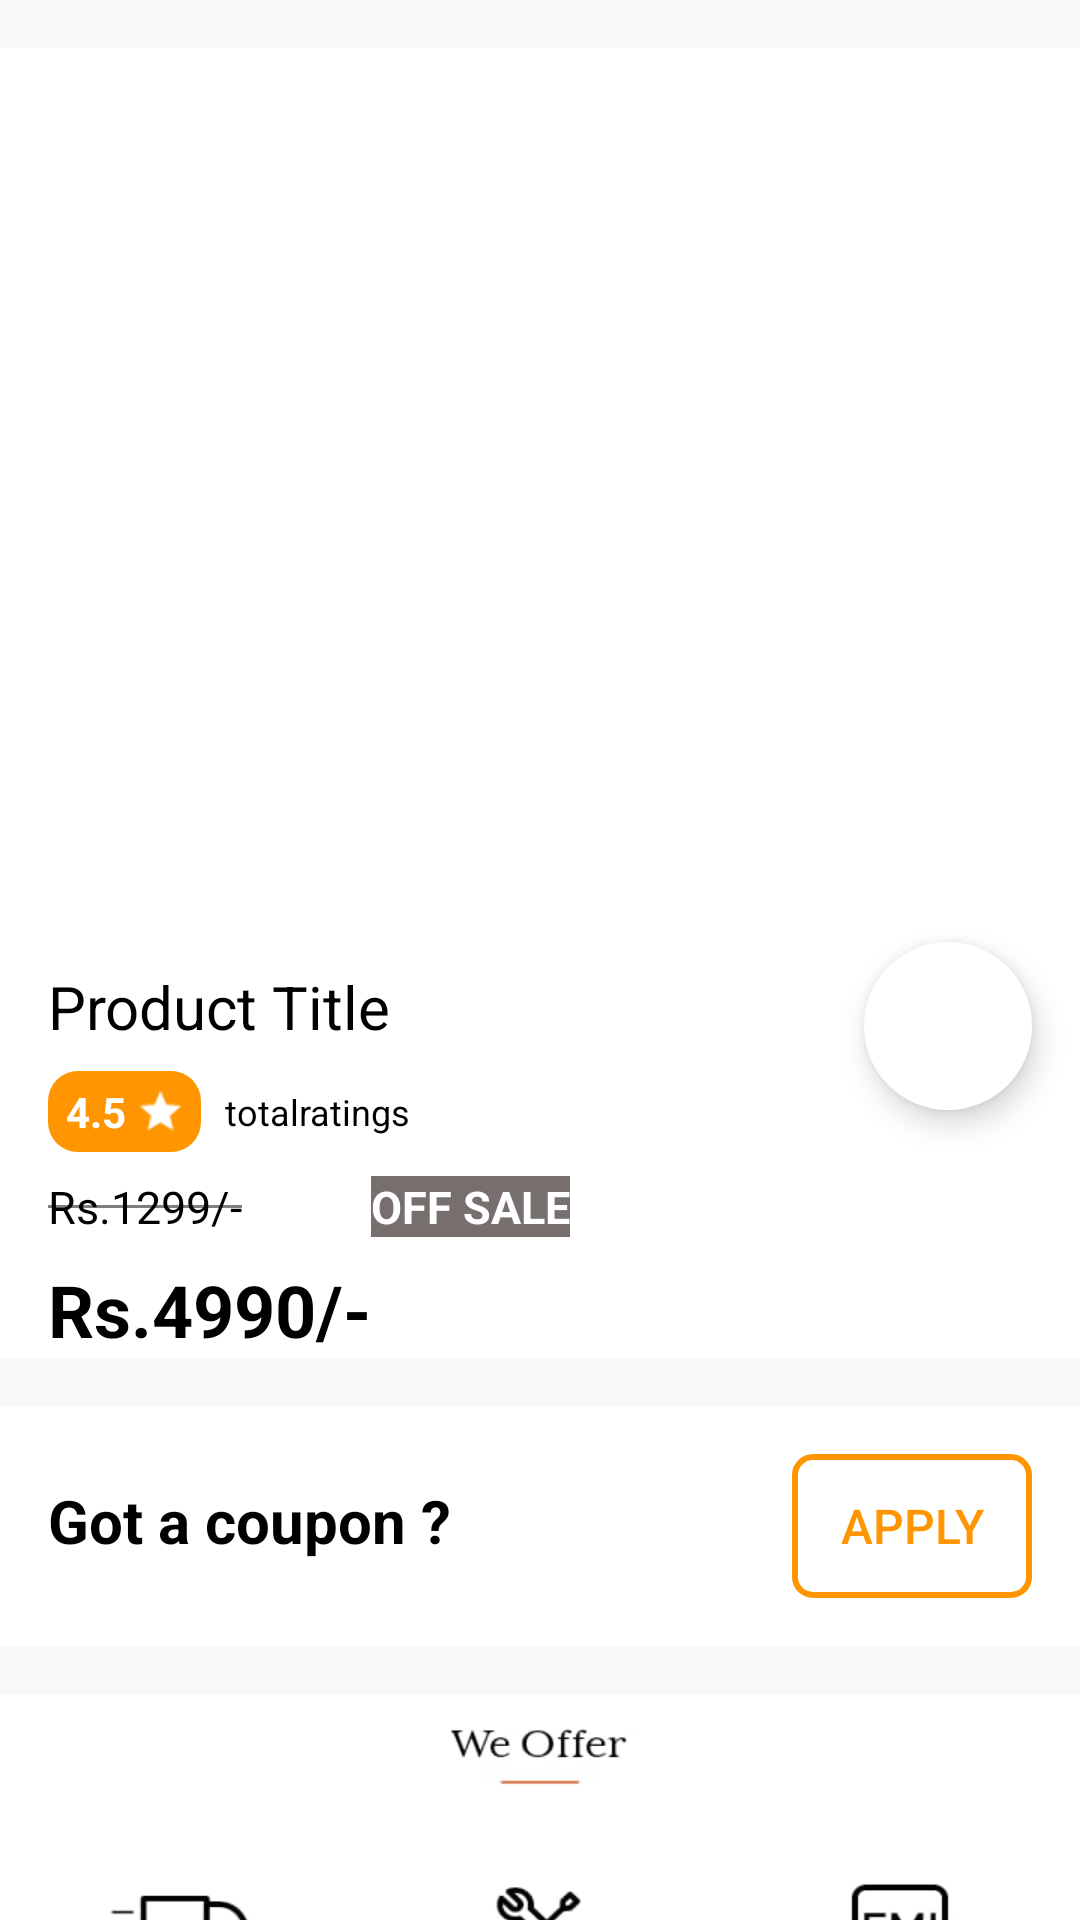

Named icons in this screenshot (1080 × 1920) and their centers, (x=x, y=y):
star: (x=160, y=1111)
